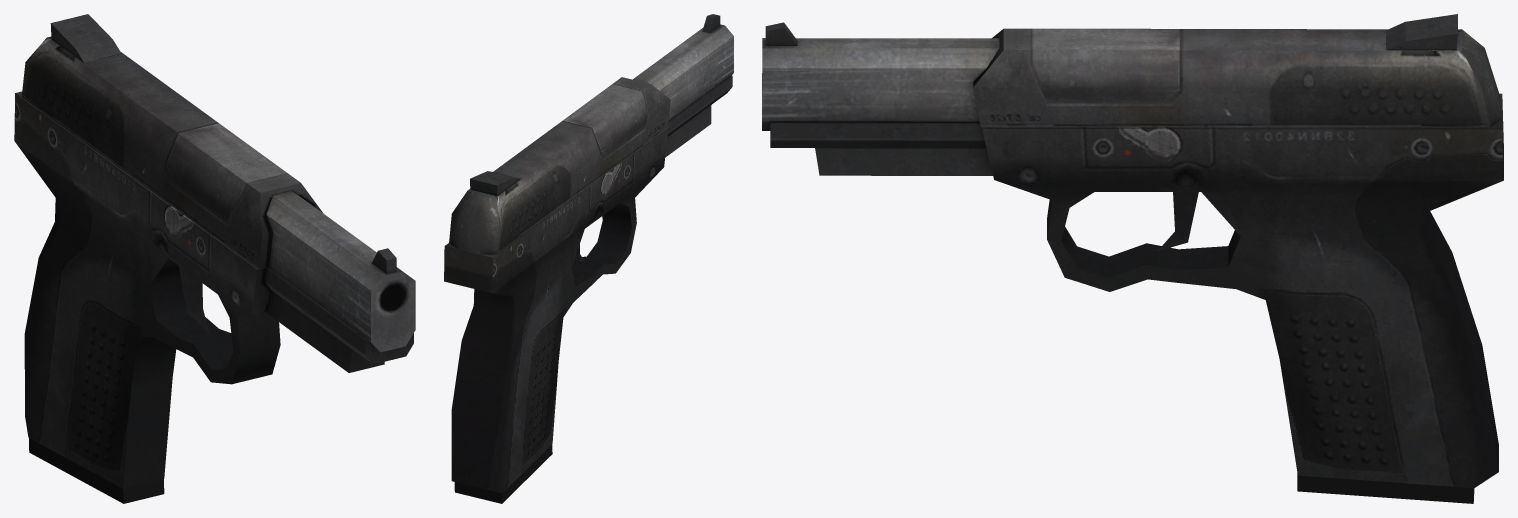
Rendered from fiveseven.FBX.
3 views of the same model, side by side, from view 1: azimuth 30°, elevation 25°; view 2: azimuth 150°, elevation 25°; view 3: azimuth 270°, elevation 25° (orthographic). The views are drawn at different scales.
Visible parts, largest first — view 1: SMDImporter.Mesh.w_pist_fiveseven; view 2: SMDImporter.Mesh.w_pist_fiveseven; view 3: SMDImporter.Mesh.w_pist_fiveseven.
Part boxes in pixels (x1,y1,x2,y2): SMDImporter.Mesh.w_pist_fiveseven: (14, 14, 415, 503); SMDImporter.Mesh.w_pist_fiveseven: (444, 14, 733, 503); SMDImporter.Mesh.w_pist_fiveseven: (762, 14, 1503, 503).
Bounding box in the file's own units: 2.49 × 15.35 × 22.28.
